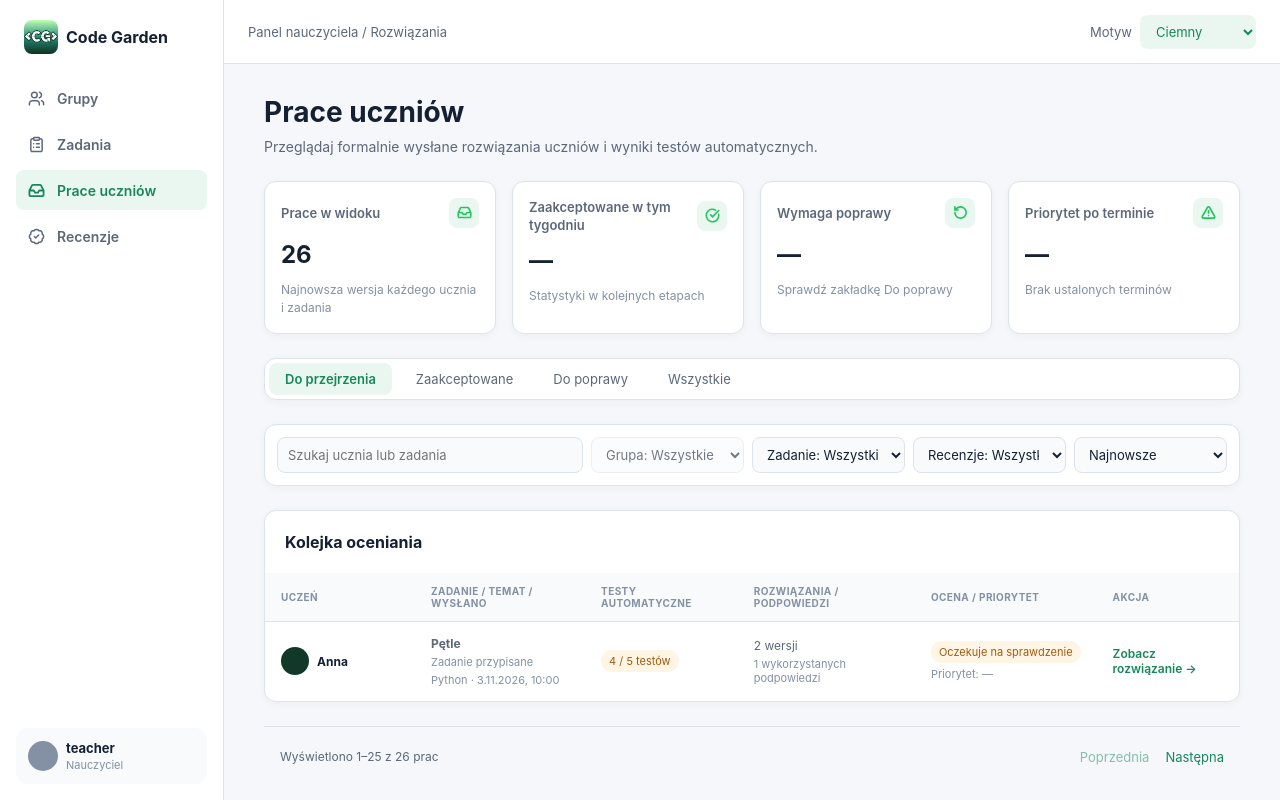
Scenario: opens a dedicated sidebar tab and queue across tasks, then opens a student's work
This screenshot has width=1280, height=800.
Expected: the text "Anna" is shown, [317, 654, 348, 669]
Expected: the heading "Kolejka oceniania" is shown, [285, 531, 422, 553]
Click the link "Zobacz rozwiązanie →". click: (1134, 654)
box: [1113, 646, 1197, 676]
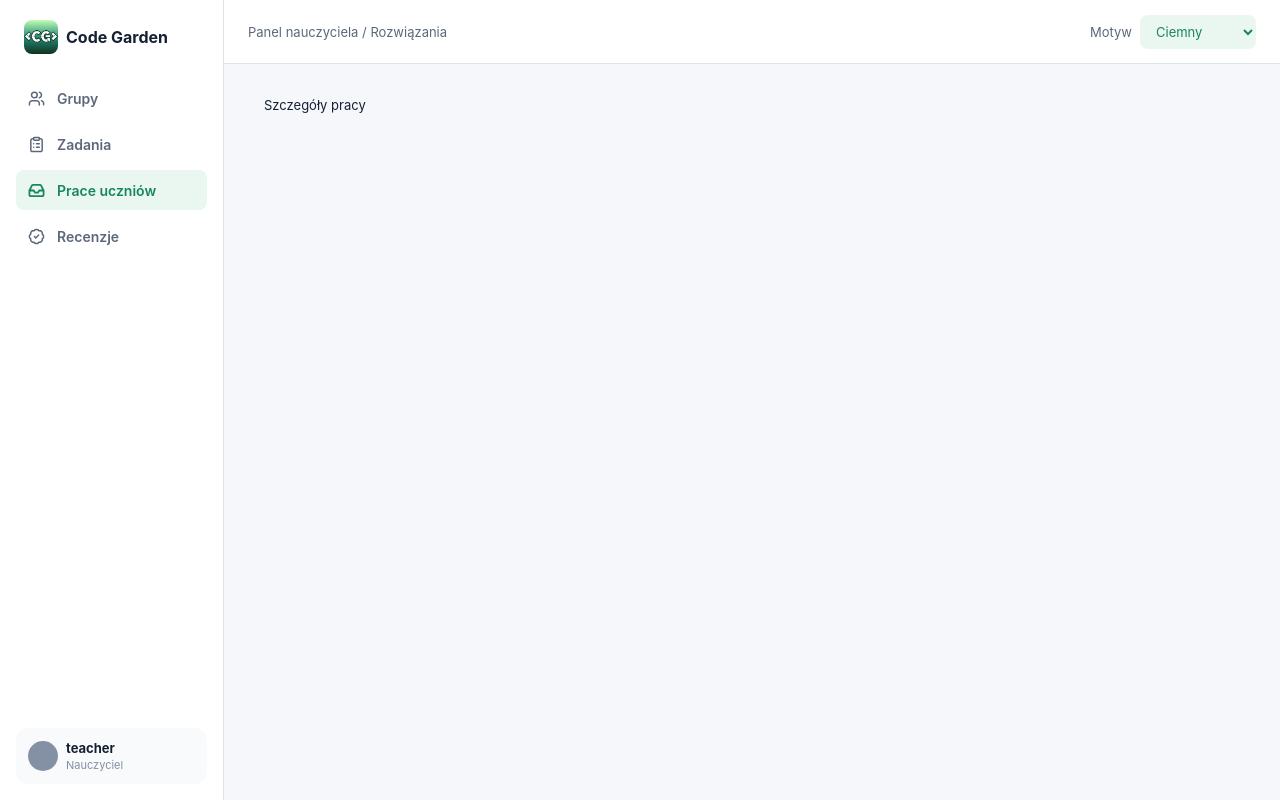
Now the text "Szczegóły pracy" is shown, box [264, 97, 366, 113]
